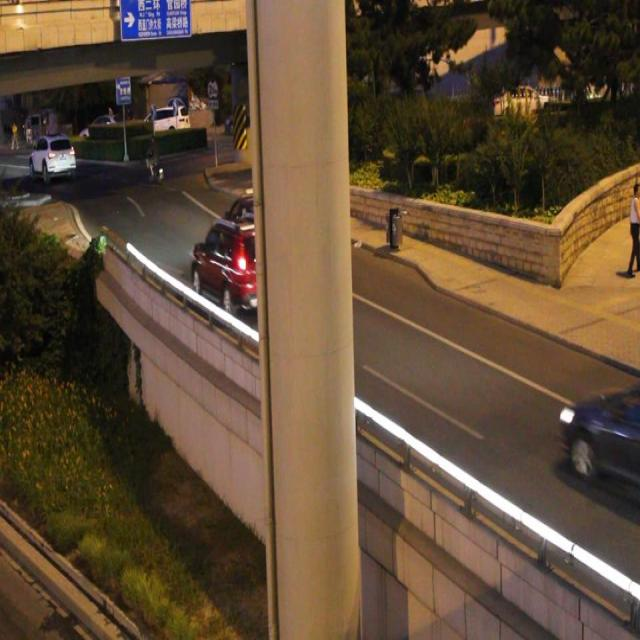car: (558, 371, 640, 501), (190, 213, 285, 318), (211, 188, 288, 266)
